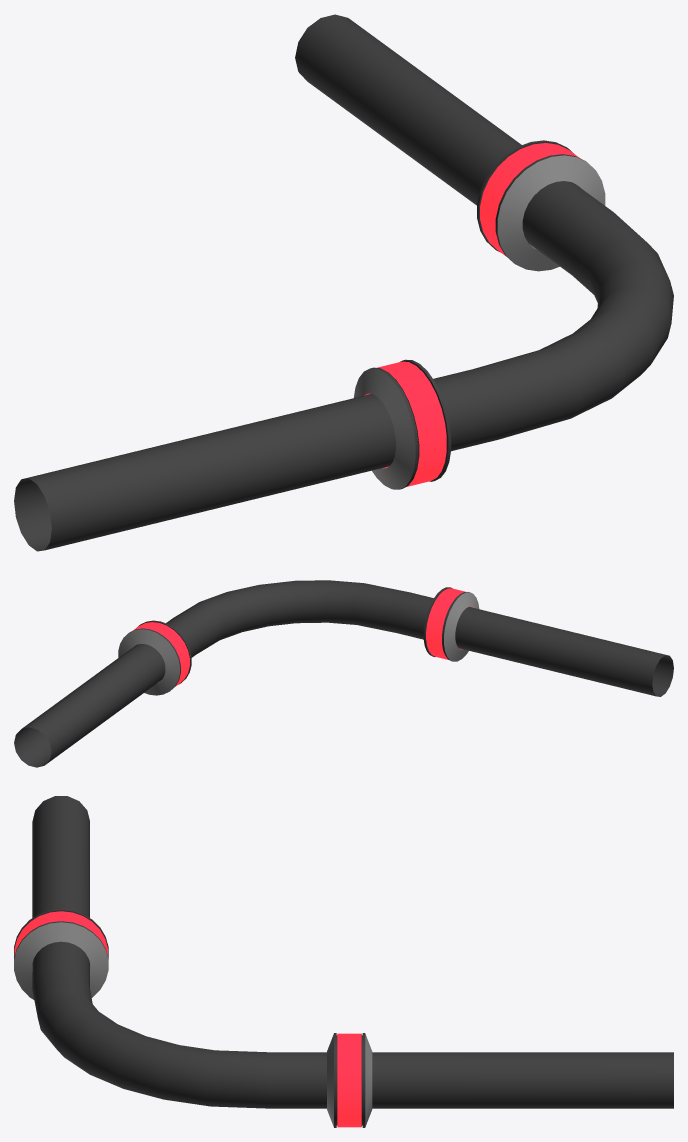
File: Red_Cable_A_rounded_part.fbx
The picture shows the model from 3 angles, top to bottom: view 1: azimuth 30°, elevation 25°; view 2: azimuth 150°, elevation 25°; view 3: azimuth 270°, elevation 25°; orthographic projection. The views are drawn at different scales.
Visible parts, largest first — view 1: Red_Cable_rounded_part; view 2: Red_Cable_rounded_part; view 3: Red_Cable_rounded_part.
Part boxes in pixels (<box>): Red_Cable_rounded_part: <box>14,14,673,551</box>; Red_Cable_rounded_part: <box>14,580,673,767</box>; Red_Cable_rounded_part: <box>14,796,673,1127</box>.
Bounding box in the file's own units: 1.83 × 0.263 × 1.83.
